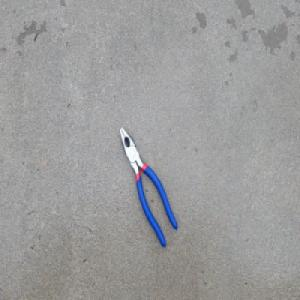Pliers: (118, 125, 179, 249)
